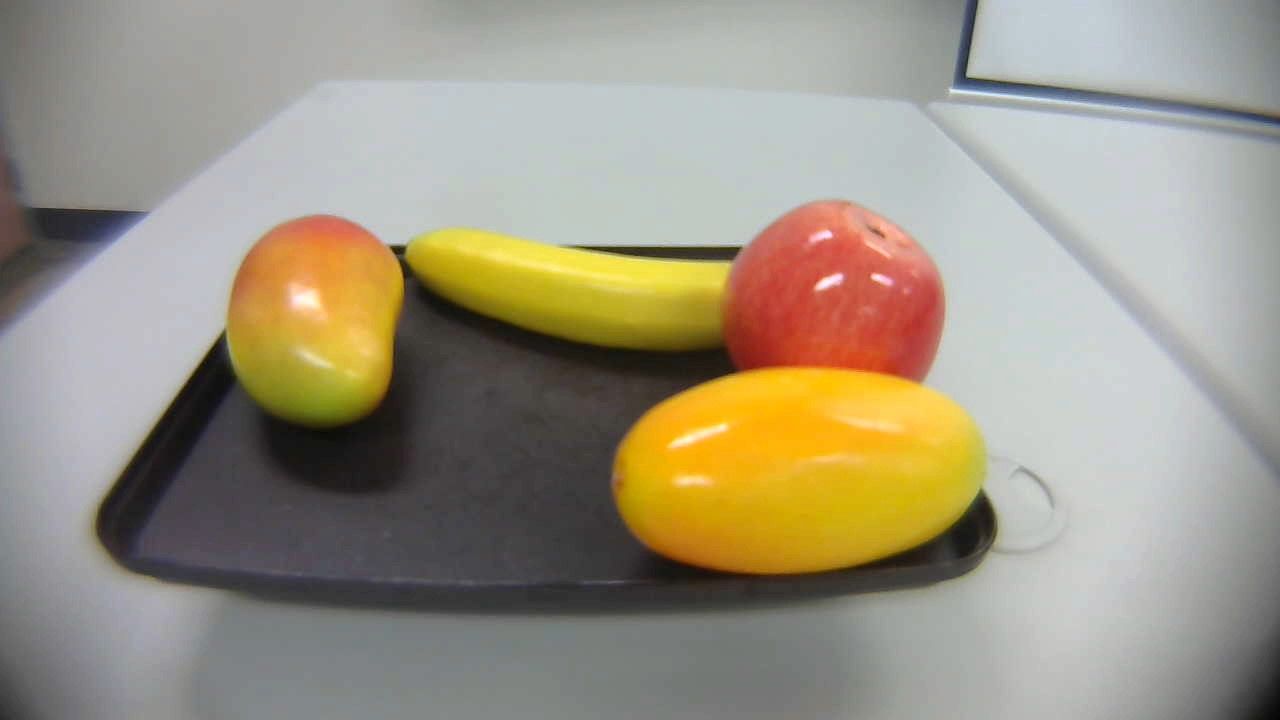banana: (408, 208, 745, 353)
red apple: (710, 194, 948, 404)
red mango: (222, 211, 408, 428)
yellow mango: (588, 348, 1002, 588)
